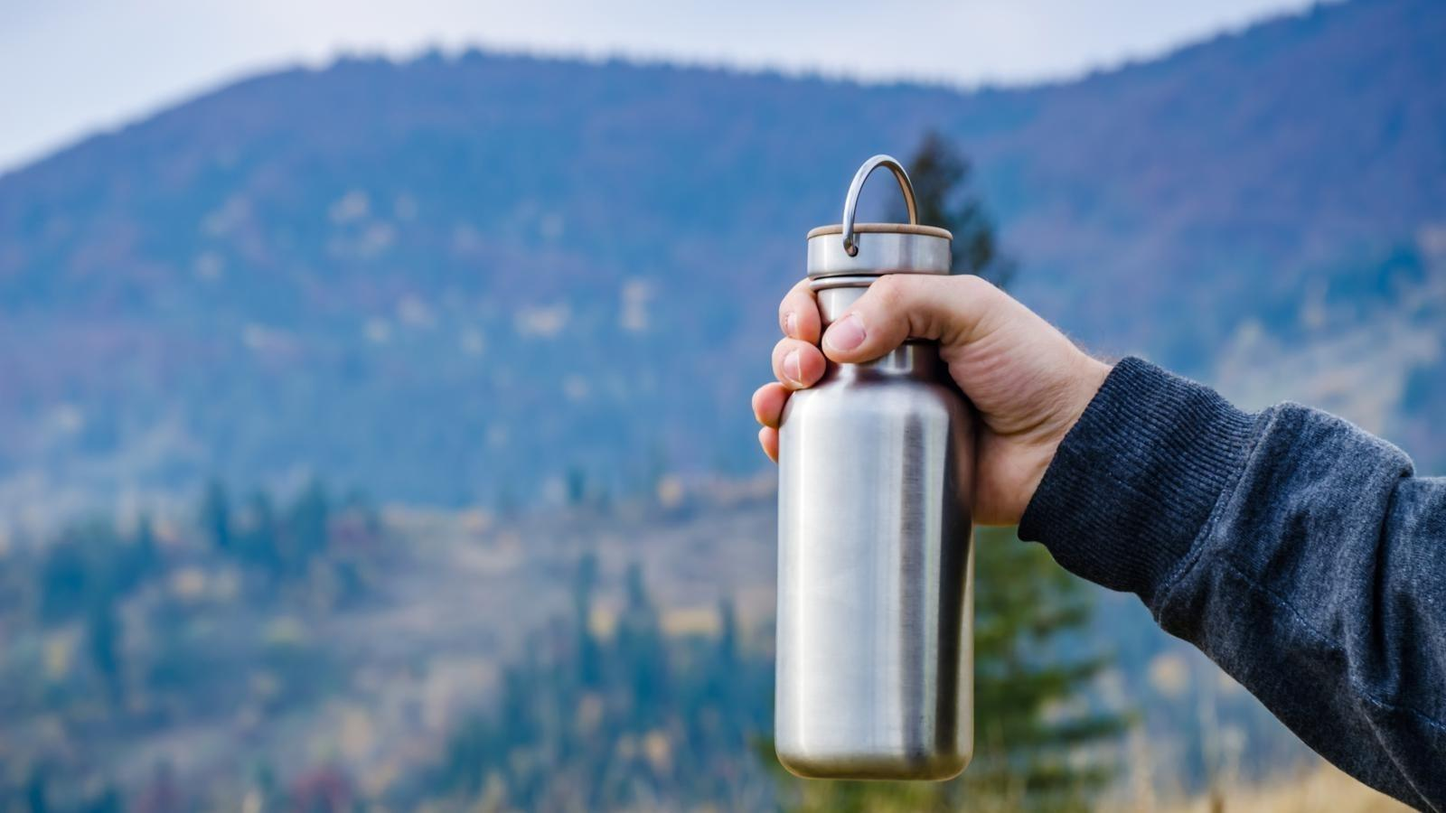gym bottle: (767, 154, 982, 786)
